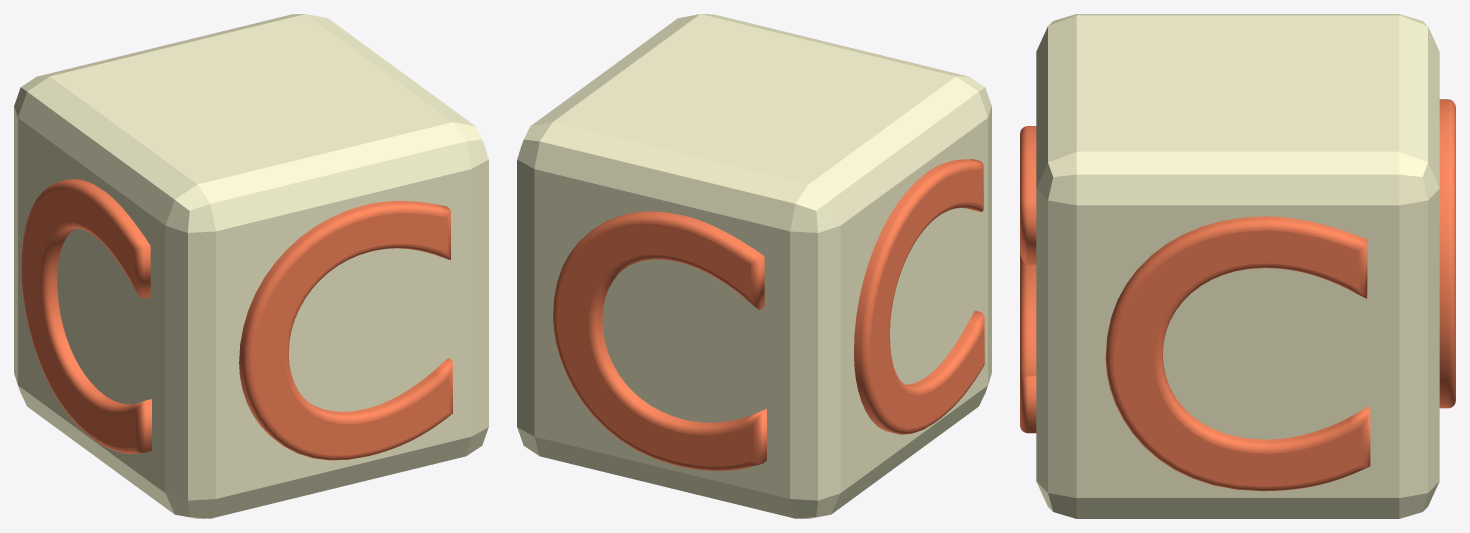
3 views of the same model, side by side, from view 1: azimuth 30°, elevation 25°; view 2: azimuth 150°, elevation 25°; view 3: azimuth 270°, elevation 25° (orthographic). The views are drawn at different scales.
Parts seen in each view (by area): view 1: C; view 2: C; view 3: C.
Boxes of the visible parts, bbox=[...] form: C: bbox=[14, 14, 488, 518]; C: bbox=[517, 14, 991, 518]; C: bbox=[1020, 14, 1455, 518].
Size of the model in its own units: 216 by 200 by 216.
